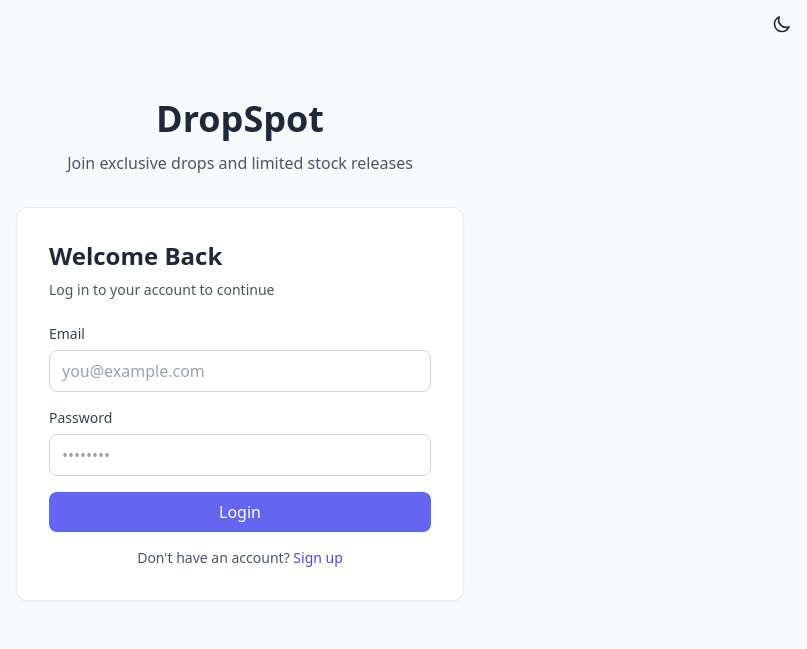
Test case: Login Component › displays error message on login failure
Type "test@example.com" into the field with placeholder "you@example.com" at (240, 371), box [49,350,431,392]
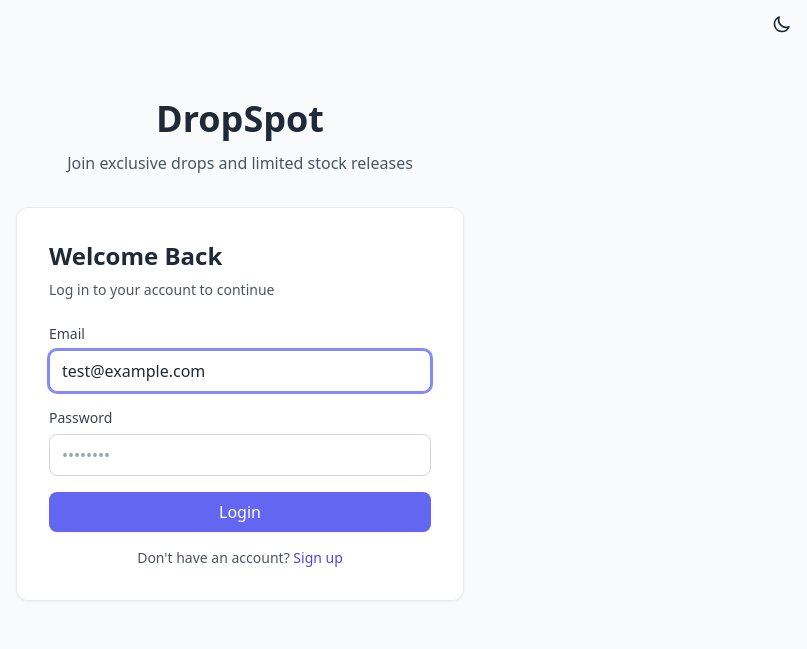
Type "password123" into the password field with placeholder "••••••••" at (240, 455), box [49,434,431,476]
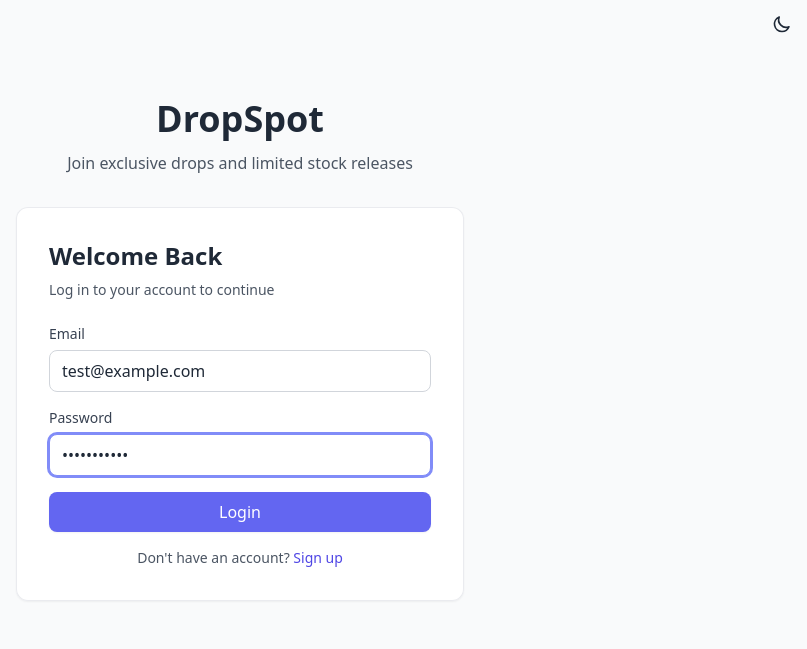
Click the button "Login" at (240, 512), box [49,492,431,532]
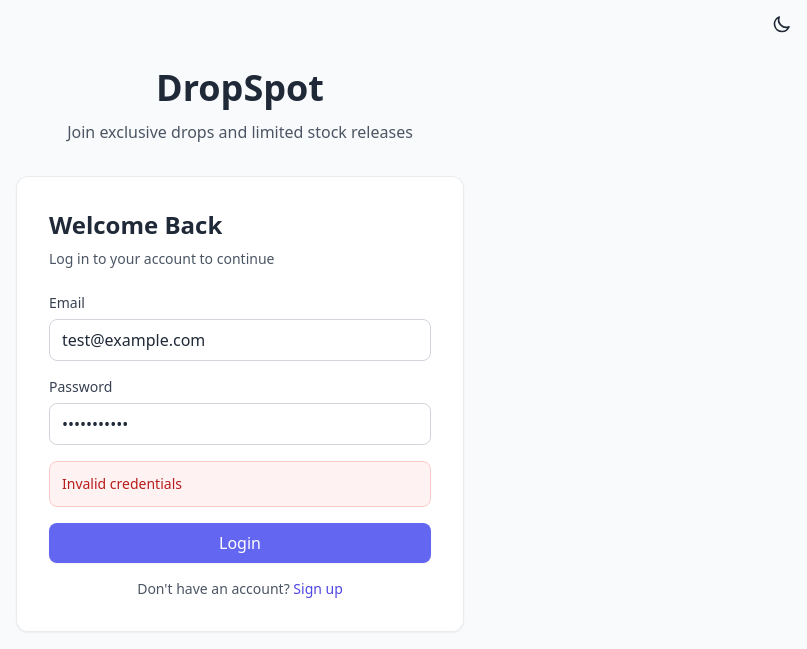
Result: the text "Invalid credentials" is shown at [49,461,431,507]
